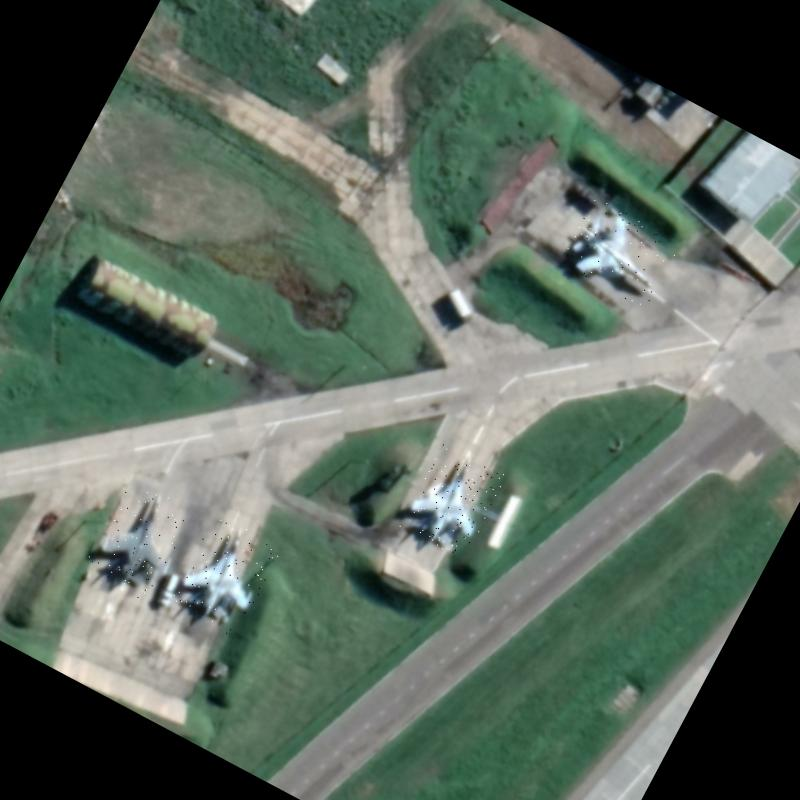A1: (166, 512, 282, 640), (82, 476, 196, 602), (559, 196, 681, 310), (398, 442, 508, 560)
